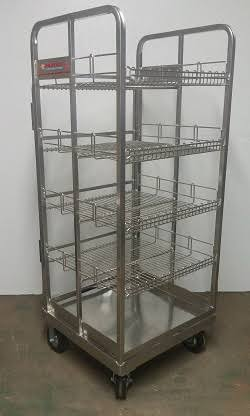Carts: (28, 4, 233, 401)
